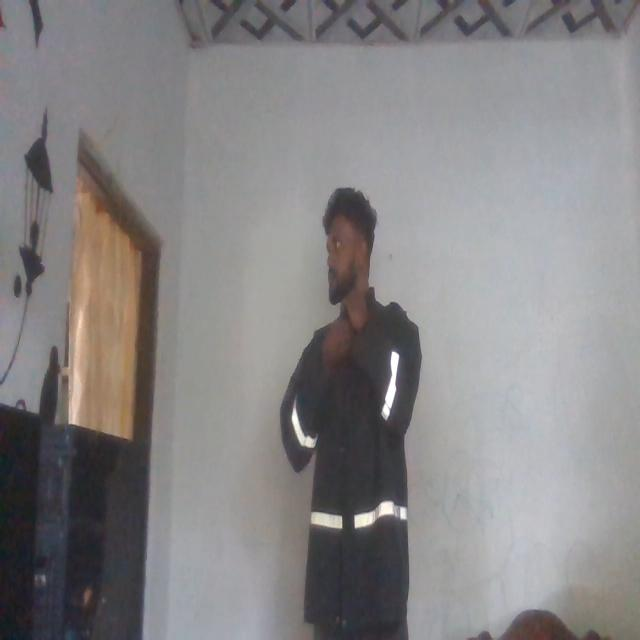Jacket_Wearer: (279, 295, 420, 621)
Person: (277, 179, 424, 640)
